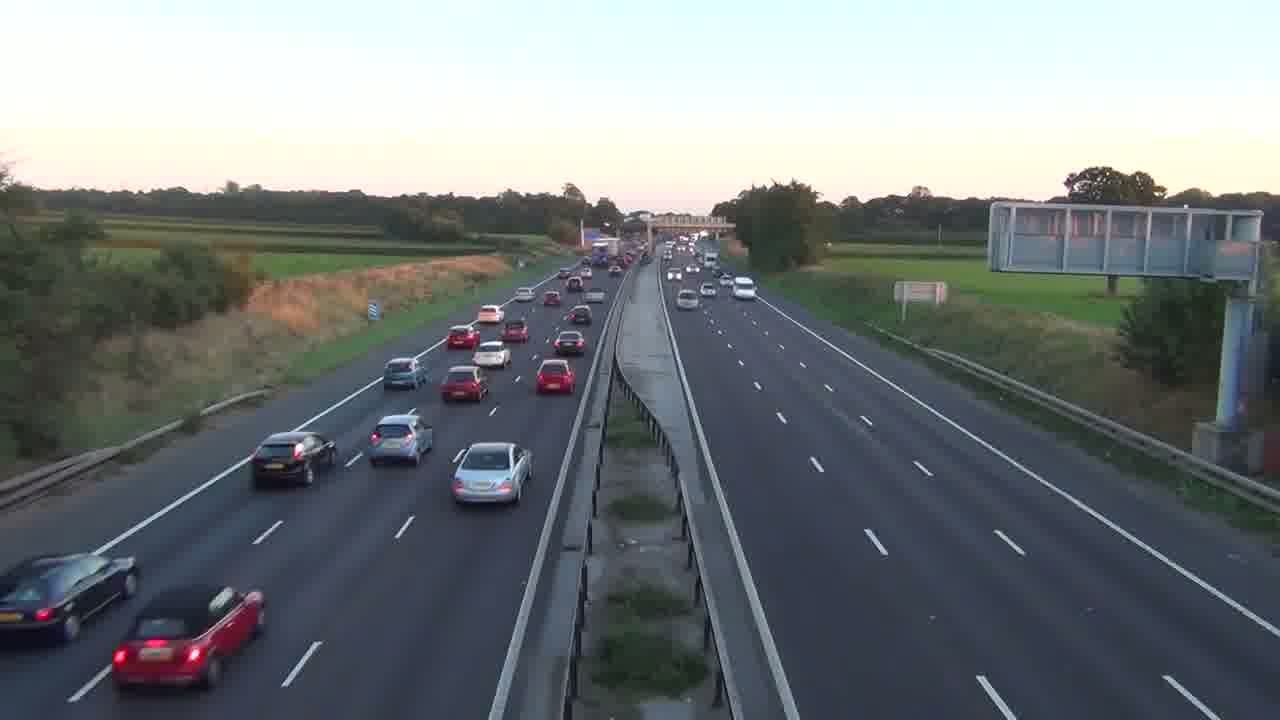car: (110, 582, 266, 692), (0, 551, 140, 645), (449, 440, 534, 507), (250, 429, 337, 489), (439, 364, 485, 403), (383, 355, 428, 391), (535, 358, 575, 394), (472, 341, 511, 369)
